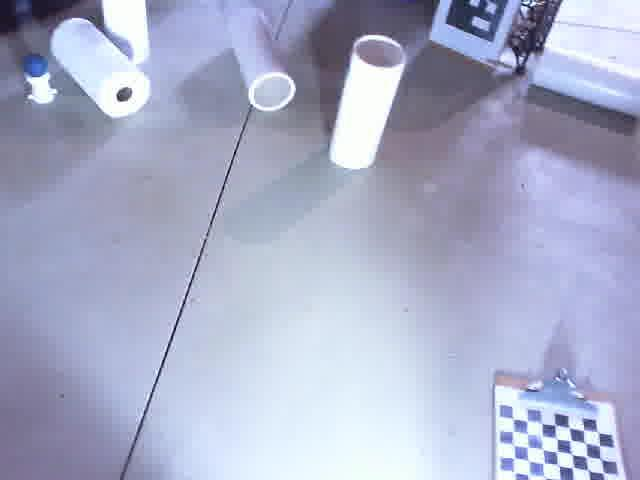coral: (325, 34, 411, 169), (217, 0, 304, 119), (96, 0, 155, 71)
